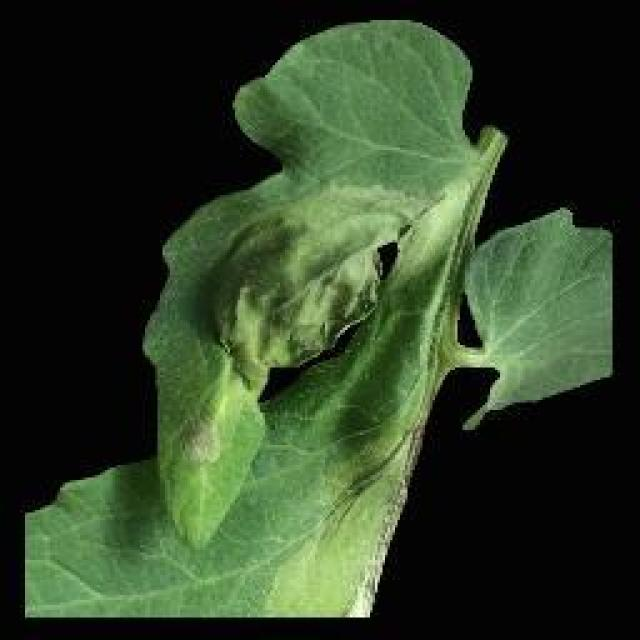Tomato late blight leaf: (20, 32, 612, 632)
